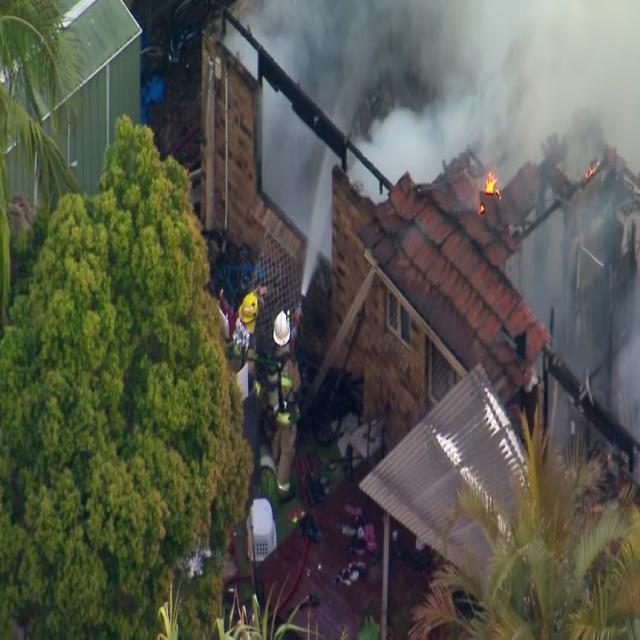Fire: (478, 158, 496, 213)
Smoke: (358, 0, 640, 170)
